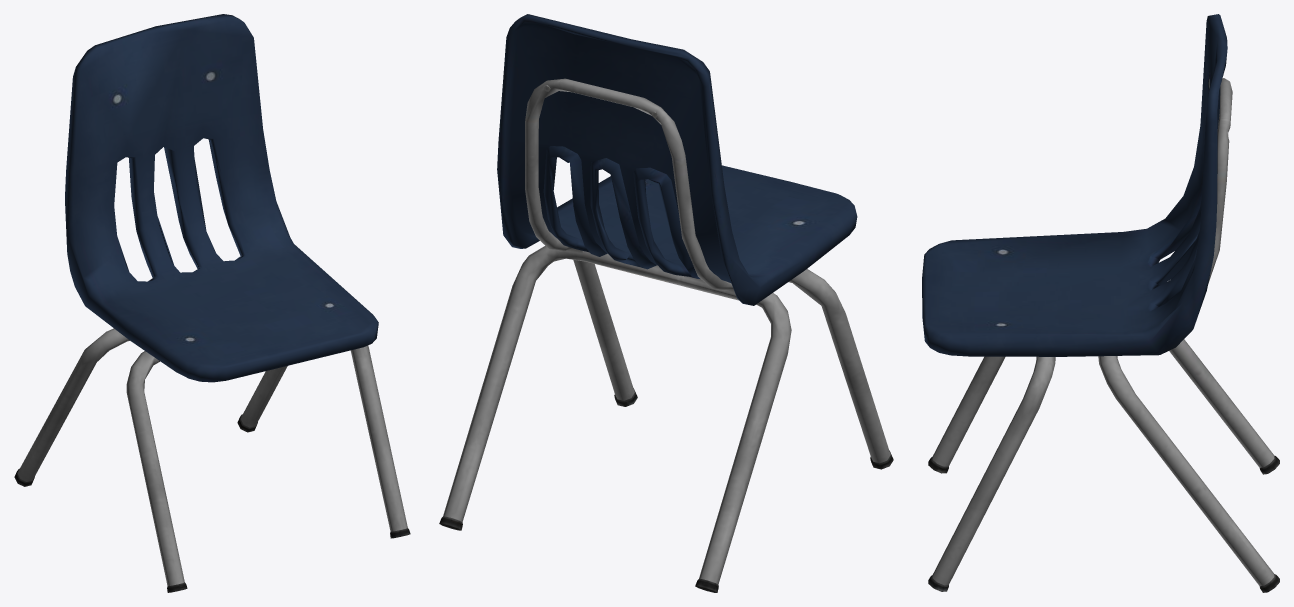
File: SchoolChair_01_lo.glb
3 renders of one model, left to right at view 1: azimuth 30°, elevation 25°; view 2: azimuth 150°, elevation 25°; view 3: azimuth 270°, elevation 25°, orthographic. The views are drawn at different scales.
Visible parts, largest first — view 1: SchoolChair_01; view 2: SchoolChair_01; view 3: SchoolChair_01.
Part boxes in pixels (x1=…): SchoolChair_01: x1=14, y1=14, x2=410, y2=592; SchoolChair_01: x1=439, y1=14, x2=893, y2=592; SchoolChair_01: x1=922, y1=14, x2=1279, y2=592.
Size of the model in its own units: 0.5659 by 1 by 0.6733.
1 material, 1 textured.
